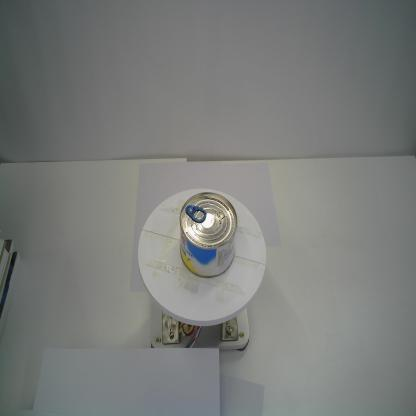Canned Food: (178, 191, 238, 279)
